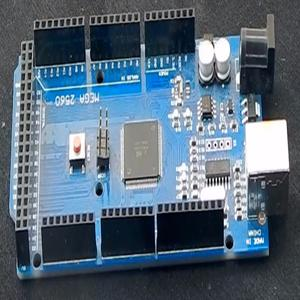duino: (14, 2, 278, 275)
